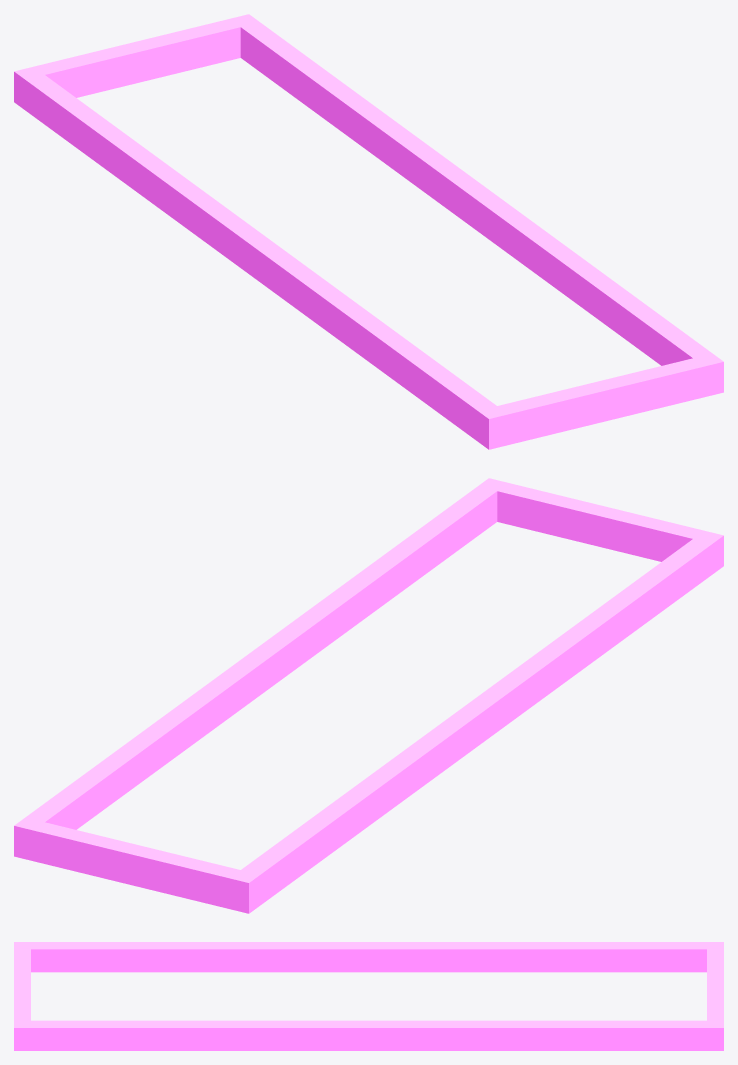
File: Practice Hole Trim.glb
The picture shows the model from 3 angles, top to bottom: view 1: azimuth 30°, elevation 25°; view 2: azimuth 150°, elevation 25°; view 3: azimuth 270°, elevation 25°; orthographic projection. The views are drawn at different scales.
Visible parts, largest first — view 1: Practice Hole Trim; view 2: Practice Hole Trim; view 3: Practice Hole Trim.
Part boxes in pixels (x1,y1,x2,y2): Practice Hole Trim: [14, 14, 723, 449]; Practice Hole Trim: [14, 478, 723, 913]; Practice Hole Trim: [14, 942, 723, 1050].
Size of what is drawn, in the model's own units: 2.4 by 0.3003 by 8.41.
